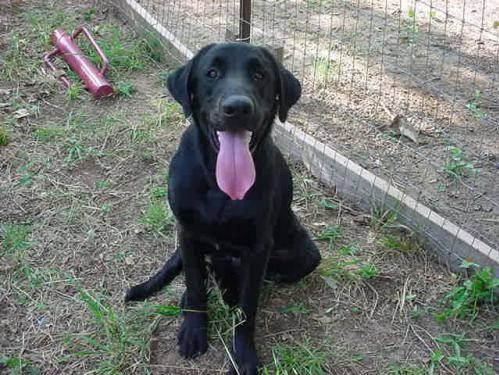dog: (125, 42, 320, 374)
